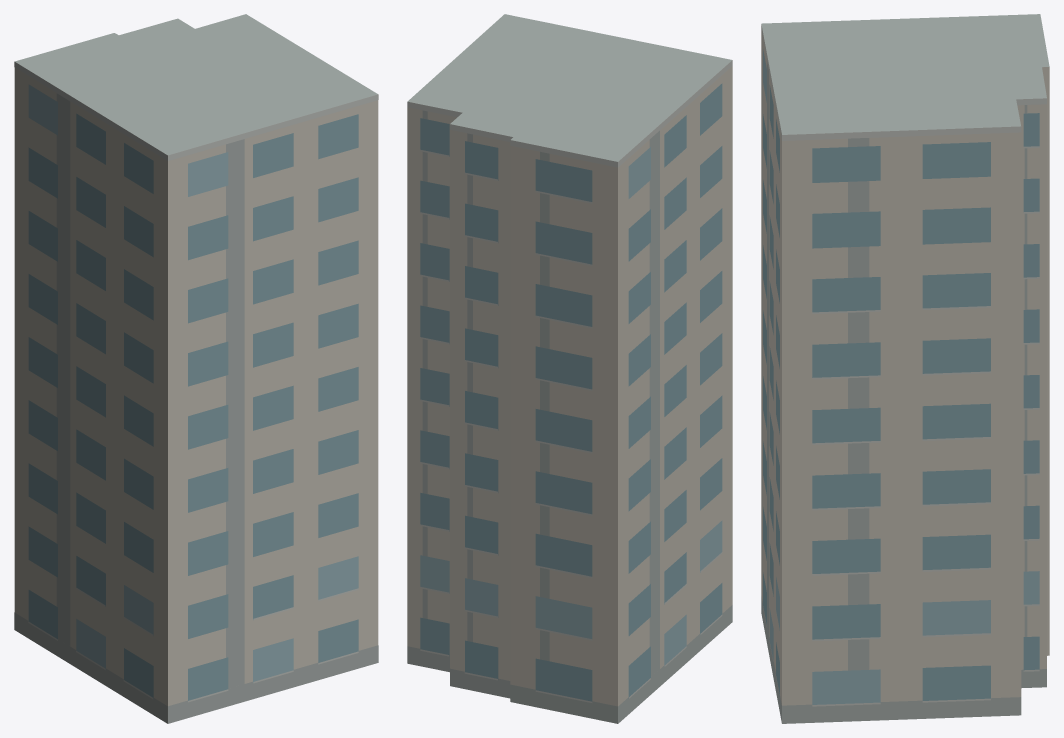
Rendered from survey-upis-32511528.glb.
3 renders of one model, left to right at view 1: azimuth 30°, elevation 25°; view 2: azimuth 150°, elevation 25°; view 3: azimuth 270°, elevation 25°, orthographic. The views are drawn at different scales.
Parts seen in each view (by area): view 1: survey-upis-32511528.tmp; view 2: survey-upis-32511528.tmp; view 3: survey-upis-32511528.tmp.
Boxes of the visible parts, x1,y1,x2,y2 form: survey-upis-32511528.tmp: (14,14,378,723); survey-upis-32511528.tmp: (407,14,732,723); survey-upis-32511528.tmp: (761,14,1049,723).
Bounding box in the file's own units: 10.63 × 24.1 × 10.7.
